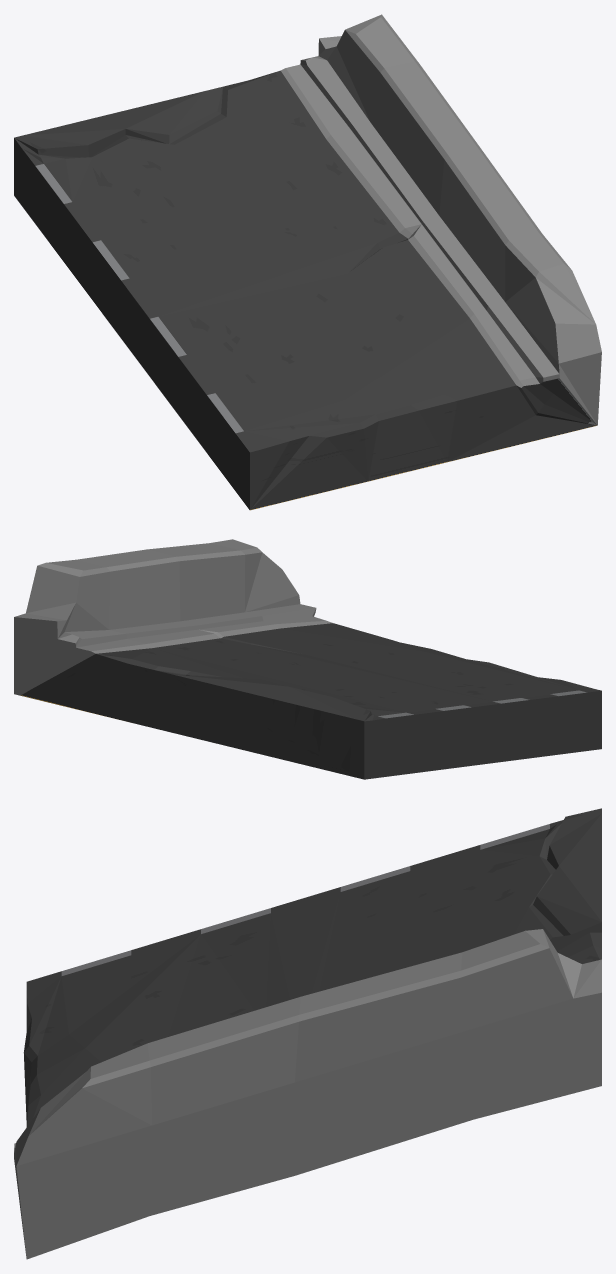
The model's file is SM_Env_Motorway_Ramp_Edge_Destroyed_04.glb.
3 renders of one model, top to bottom at view 1: azimuth 30°, elevation 25°; view 2: azimuth 150°, elevation 25°; view 3: azimuth 270°, elevation 25°, orthographic. The views are drawn at different scales.
Parts seen in each view (by area): view 1: SM_Env_Motorway_Ramp_Edge_Destroyed_04; view 2: SM_Env_Motorway_Ramp_Edge_Destroyed_04; view 3: SM_Env_Motorway_Ramp_Edge_Destroyed_04.
Part boxes in pixels (bbox=[...]): SM_Env_Motorway_Ramp_Edge_Destroyed_04: bbox=[14, 14, 601, 510]; SM_Env_Motorway_Ramp_Edge_Destroyed_04: bbox=[14, 539, 601, 779]; SM_Env_Motorway_Ramp_Edge_Destroyed_04: bbox=[14, 808, 601, 1259].
Bounding box in the file's own units: 6.4 × 4.5 × 7.68.
1 material, 1 textured.
